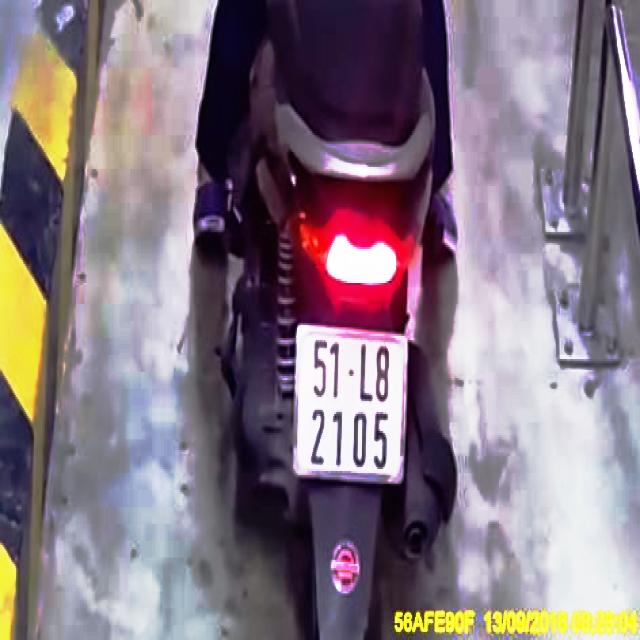license_plate: (296, 321, 407, 481)
